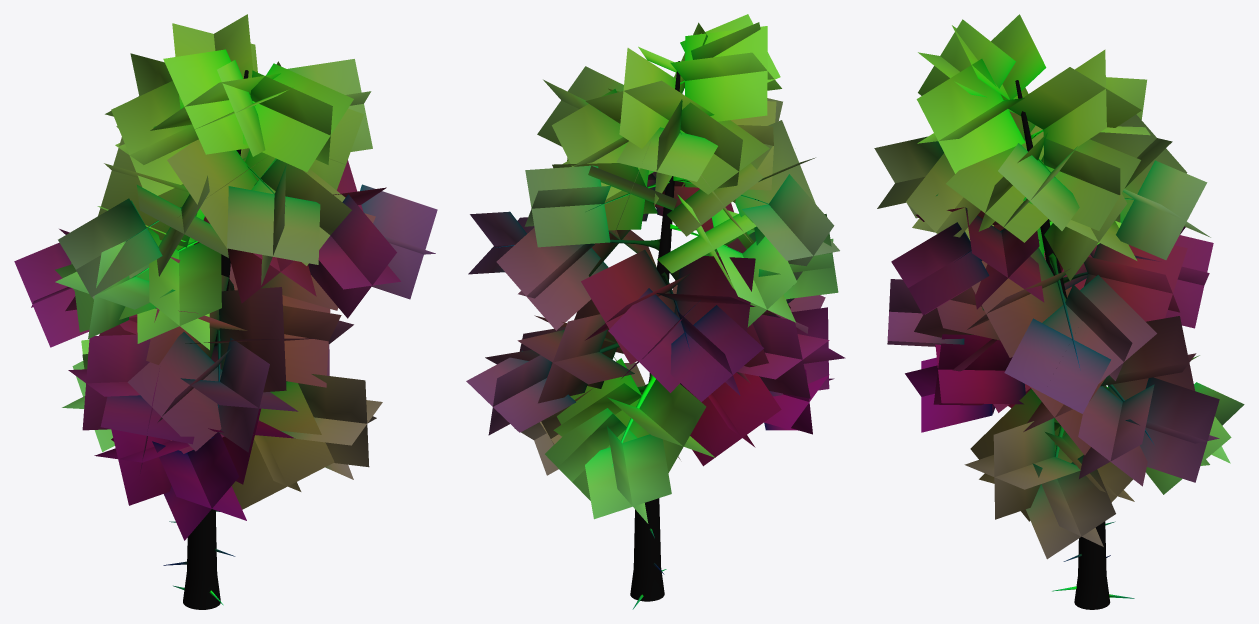
The model's file is URP_P7_Tree_2_LOD_1.fbx.
3 views of the same model, side by side, from view 1: azimuth 30°, elevation 25°; view 2: azimuth 150°, elevation 25°; view 3: azimuth 270°, elevation 25° (orthographic). The views are drawn at different scales.
Visible parts, largest first — view 1: Tree_2_LOD_1; view 2: Tree_2_LOD_1; view 3: Tree_2_LOD_1.
Part boxes in pixels (x1,y1,x2,y2): Tree_2_LOD_1: (14,14,437,609); Tree_2_LOD_1: (466,14,845,609); Tree_2_LOD_1: (874,14,1244,609).
Size of the model in its own units: 283 by 412 by 248.
